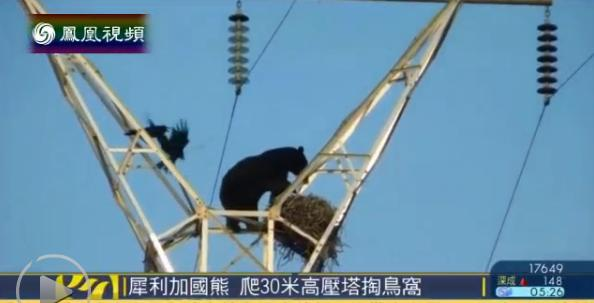bird-nest: (280, 196, 343, 257)
